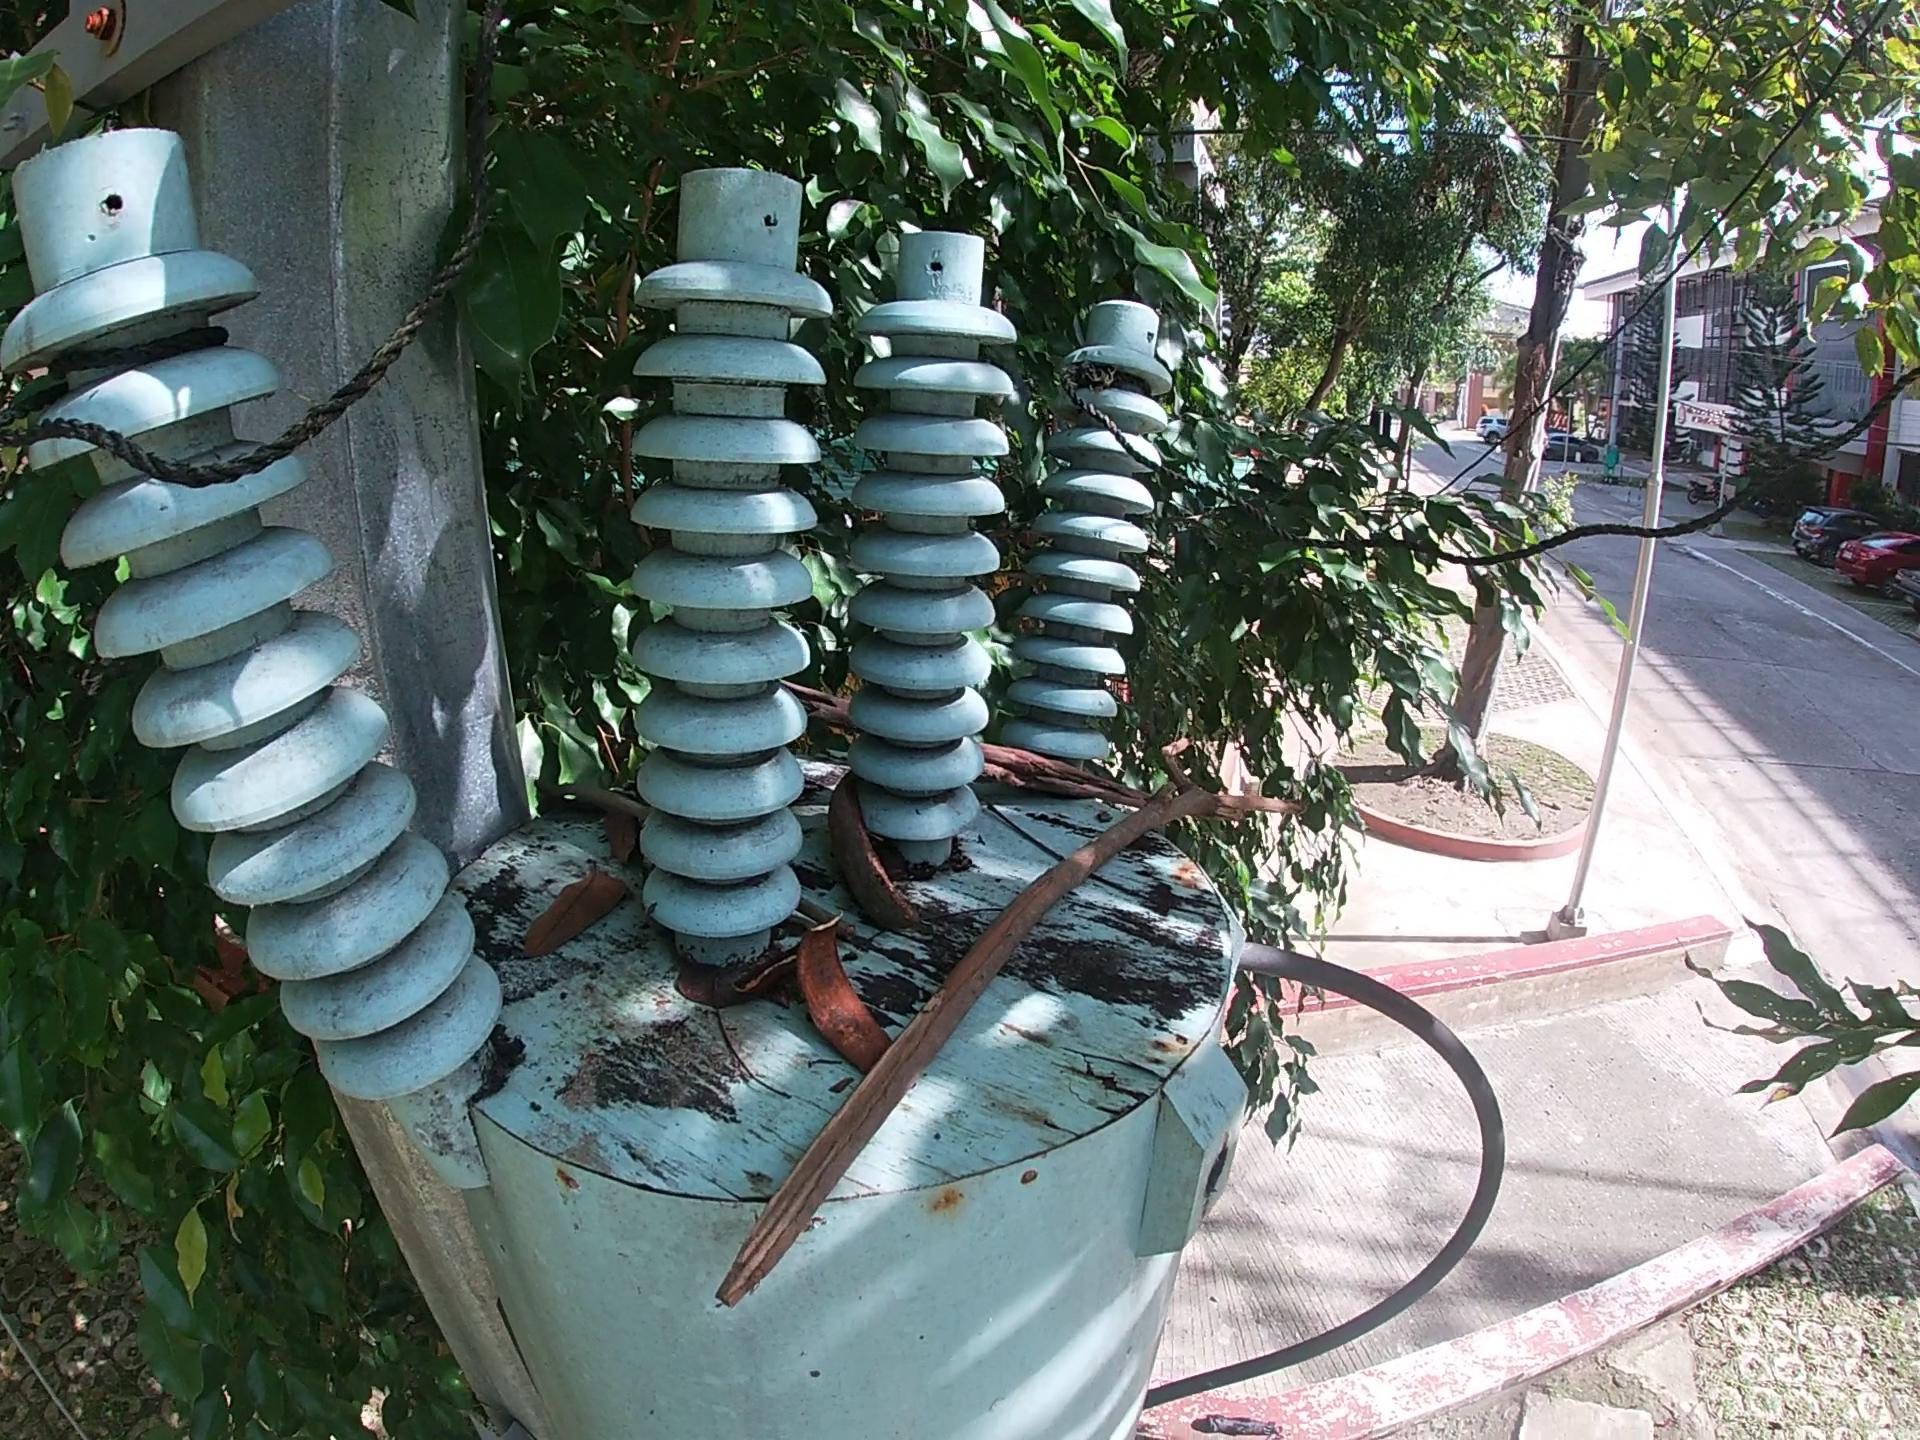leaf: (513, 856, 647, 961), (674, 956, 748, 1007), (605, 808, 647, 867)
mahogany fruit: (816, 767, 928, 941), (794, 911, 897, 1080)
tree branch: (714, 728, 1315, 1311), (780, 676, 1163, 817), (520, 784, 655, 820), (800, 894, 854, 938)
